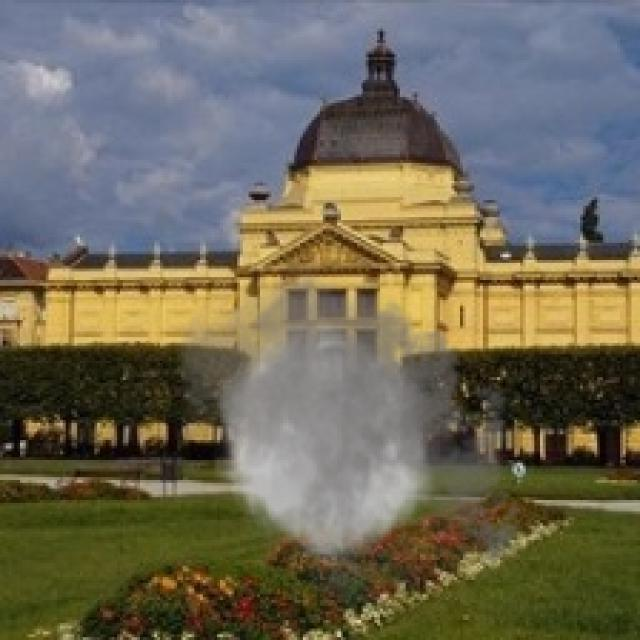smoke: (163, 251, 531, 626)
